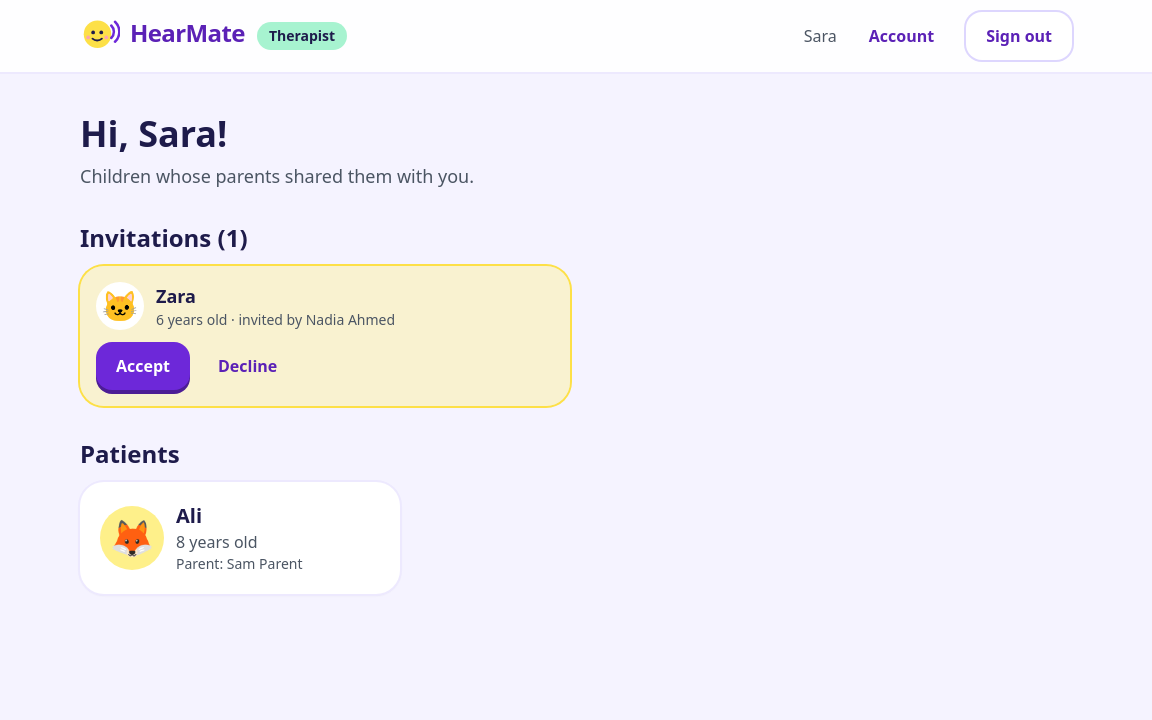
Test: Therapist dashboard: approved › accepts an invitation, which turns it into a patient
The image size is (1152, 720).
Click the button with aria-label "Accept invitation for Zara".
click(143, 366)  # box [96,342,190,390]
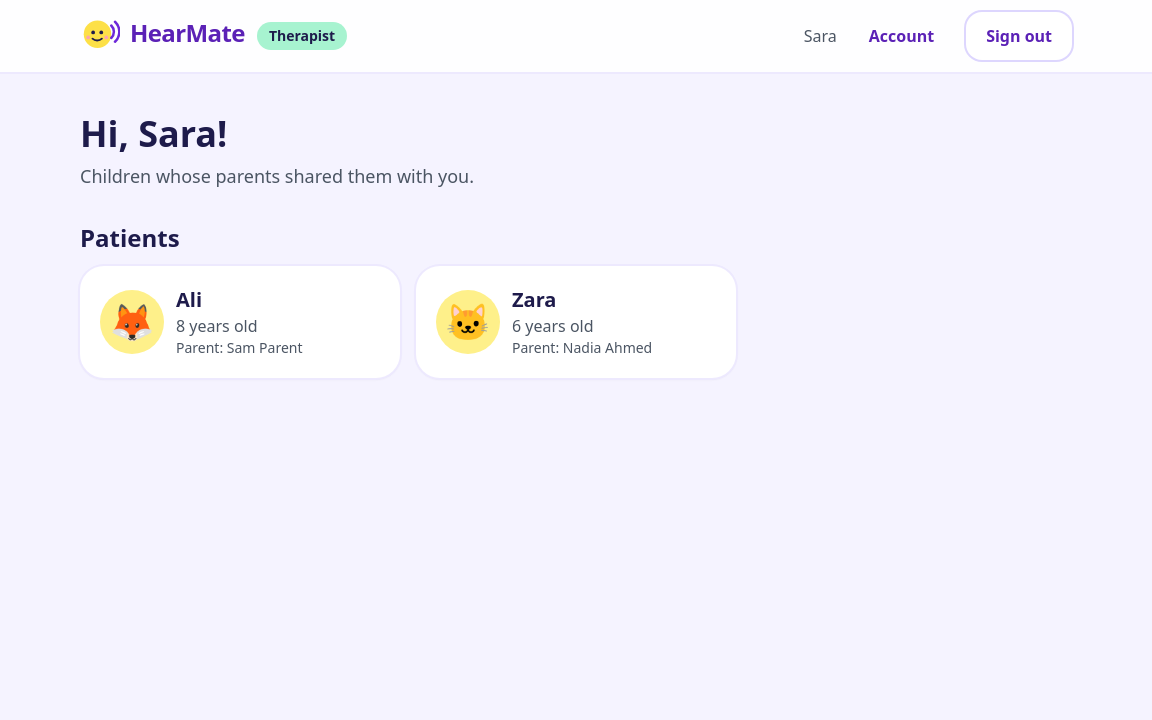
Now the heading "Invitations" is gone
